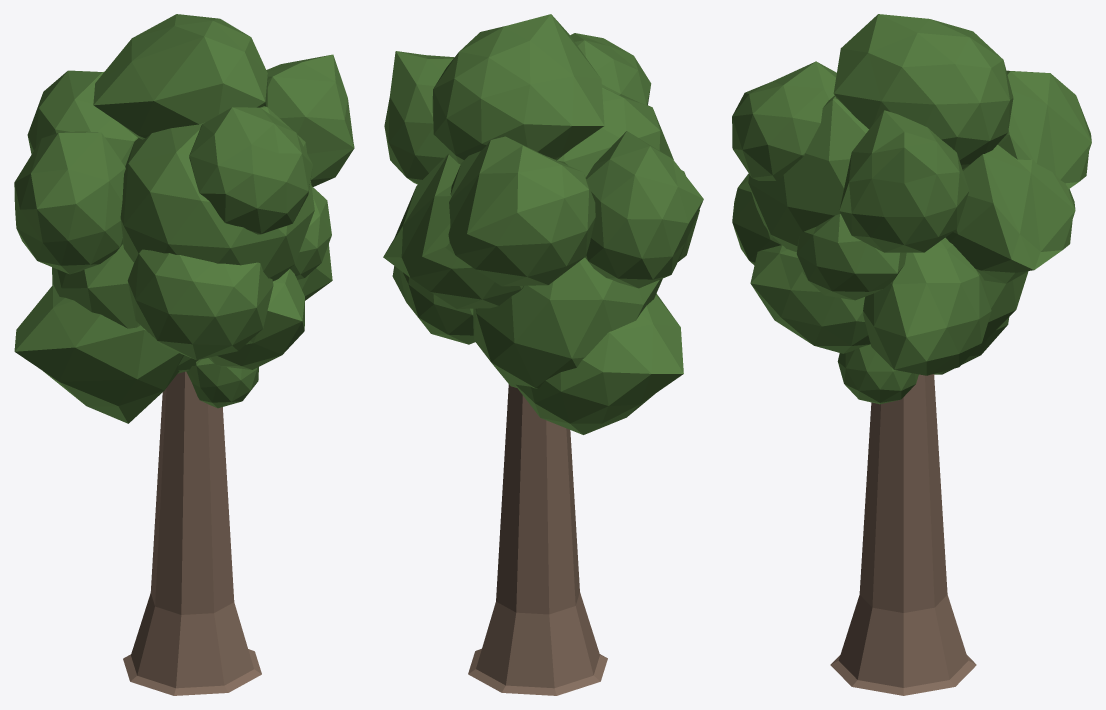
The model's file is árbol4.glb.
3 renders of one model, left to right at view 1: azimuth 30°, elevation 25°; view 2: azimuth 150°, elevation 25°; view 3: azimuth 270°, elevation 25°, orthographic.
Parts seen in each view (by area): view 1: Icosphere.001; view 2: Icosphere.001; view 3: Icosphere.001.
Part boxes in pixels (left/top/right/bottom): Icosphere.001: left=14, top=14, right=354, bottom=695; Icosphere.001: left=383, top=14, right=703, bottom=695; Icosphere.001: left=732, top=14, right=1091, bottom=695.
Bounding box in the file's own units: 5.53 × 11.05 × 5.54.
